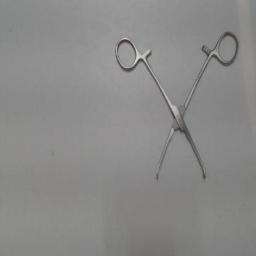Allis Tissue Forceps: (112, 26, 244, 186)
